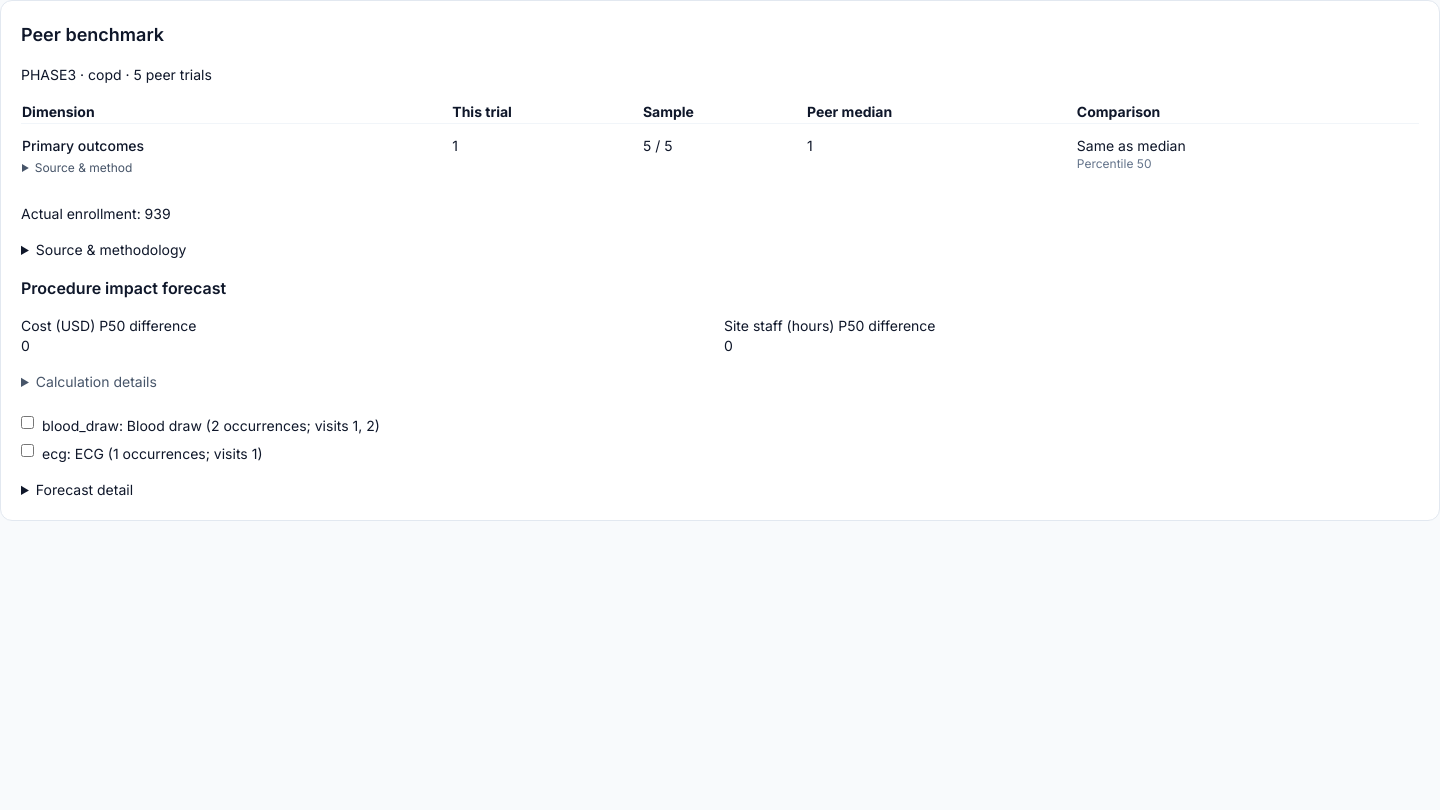
Test: PeerMirror › shows a neutral percentile only for a sufficient cohort
The width and height of the screenshot is (1440, 810).
expect the text "Percentile 50" is shown: met, box [1077, 156, 1152, 171]
expect the text "Same as median" is shown: met, box [1077, 137, 1186, 154]
Click the heading "Source & methodology": (111, 250) [36, 241, 186, 258]
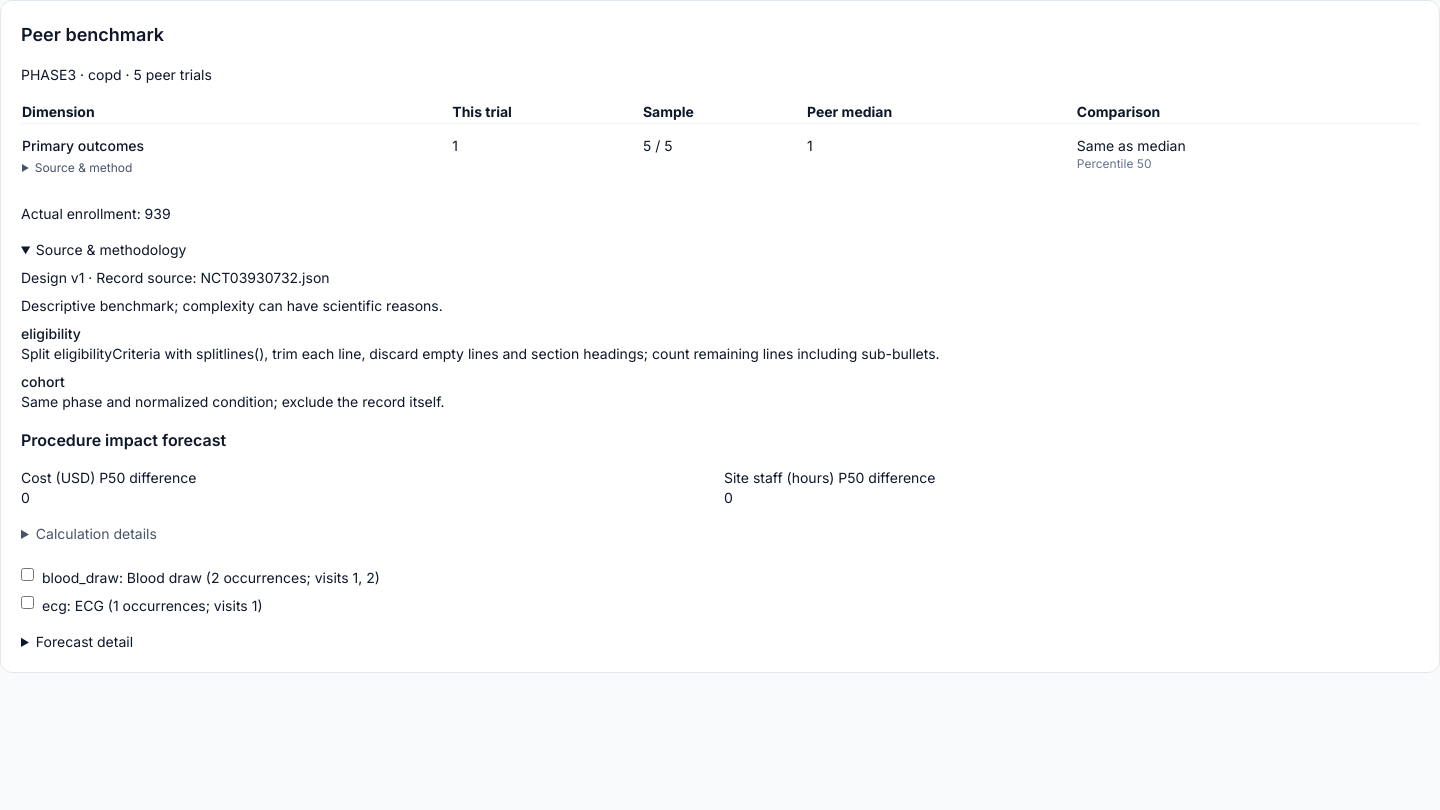
expect the text "Descriptive benchmark" shows "complexity can have scientific reasons": met, box [21, 297, 443, 314]
